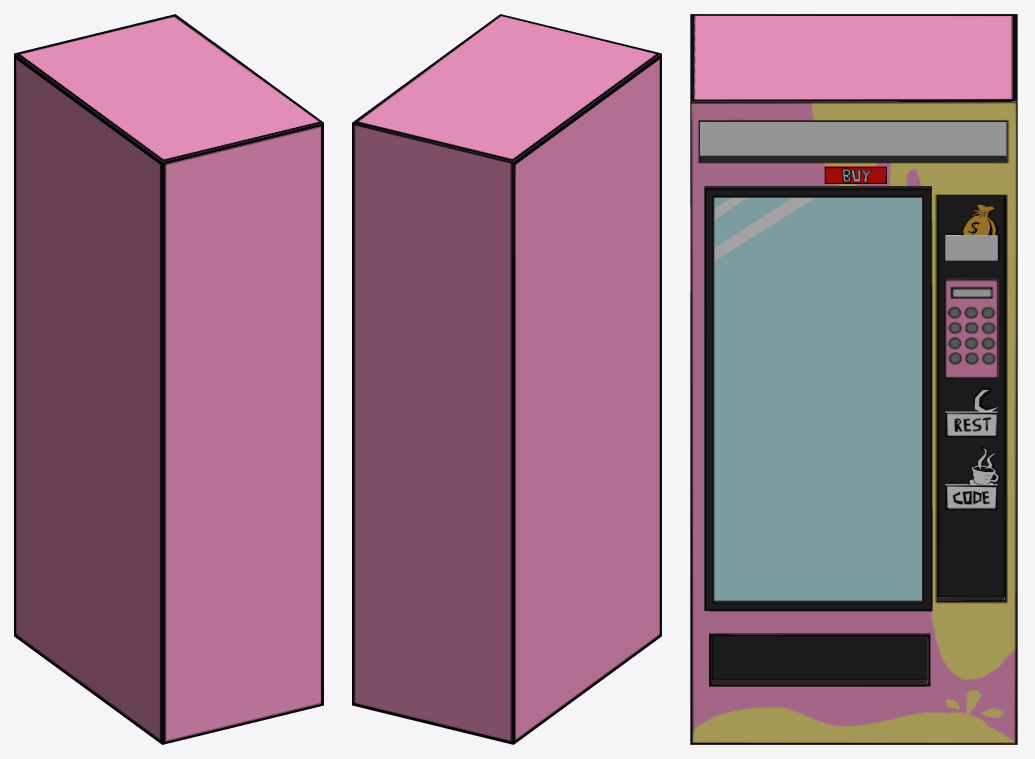
The model's file is vending_machine.glb.
The picture shows the model from 3 angles, left to right: view 1: azimuth 30°, elevation 25°; view 2: azimuth 150°, elevation 25°; view 3: azimuth 270°, elevation 25°; orthographic projection. The views are drawn at different scales.
Parts seen in each view (by area): view 1: Vending Machine; view 2: Vending Machine; view 3: Vending Machine, Glass, Buy Button, Money, code_icon.
Part boxes in pixels (left/top/right/bottom): Vending Machine: left=14, top=14, right=323, bottom=744; Vending Machine: left=352, top=14, right=661, bottom=744; Vending Machine: left=690, top=14, right=1017, bottom=744; Glass: left=714, top=197, right=921, bottom=600; Buy Button: left=824, top=166, right=886, bottom=183; Money: left=961, top=204, right=998, bottom=235; code_icon: left=968, top=446, right=999, bottom=484.
Bounding box in the file's own units: 0.7174 × 2.41 × 1.12.
10 materials, 8 textured.
